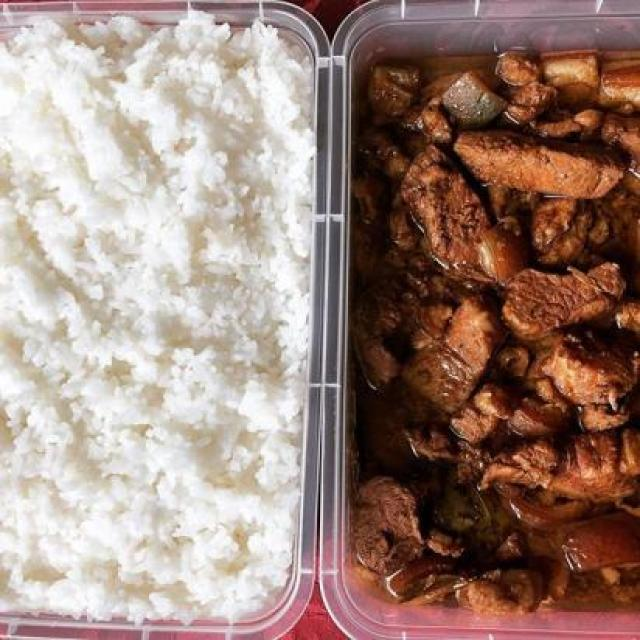Rice: (6, 21, 306, 612)
